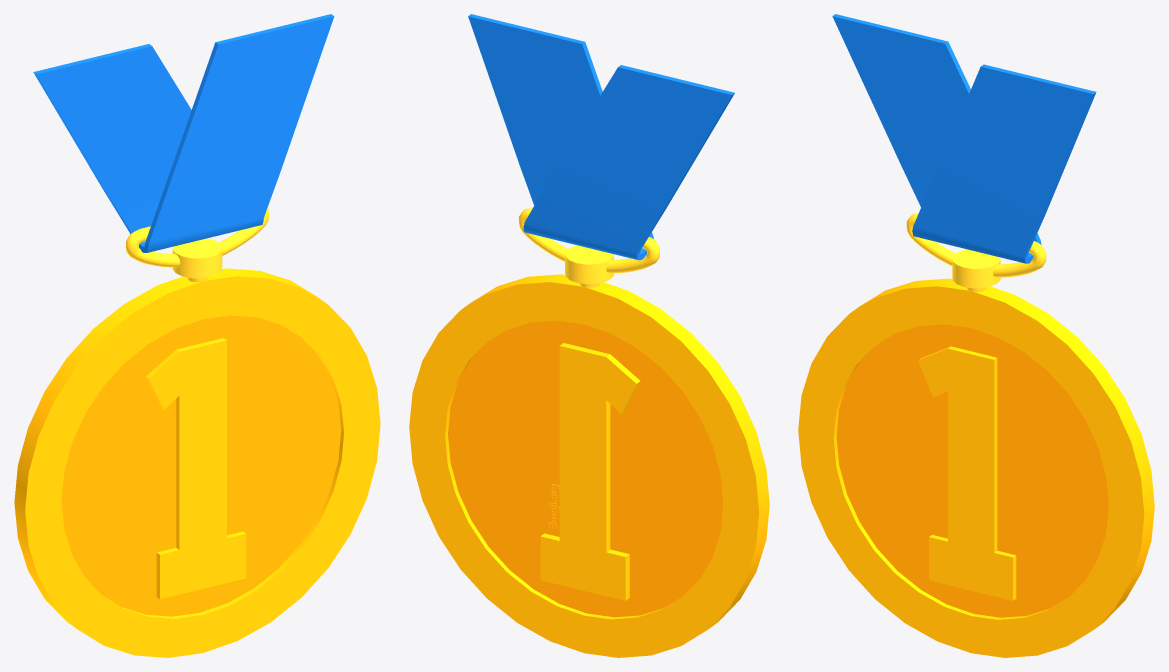
File: 1st_place_medal.glb
The picture shows the model from 3 angles, left to right: view 1: azimuth 30°, elevation 25°; view 2: azimuth 150°, elevation 25°; view 3: azimuth 330°, elevation 25°; orthographic projection. The views are drawn at different scales.
Parts seen in each view (by area): view 1: Circle.281; view 2: Circle.281; view 3: Circle.281.
Boxes of the visible parts, x1=… form: Circle.281: x1=14, y1=14, x2=380, y2=657; Circle.281: x1=409, y1=14, x2=769, y2=657; Circle.281: x1=798, y1=14, x2=1154, y2=657.
Size of the model in its own units: 1.4 by 2.29 by 0.1711.
1 material, 1 textured.
